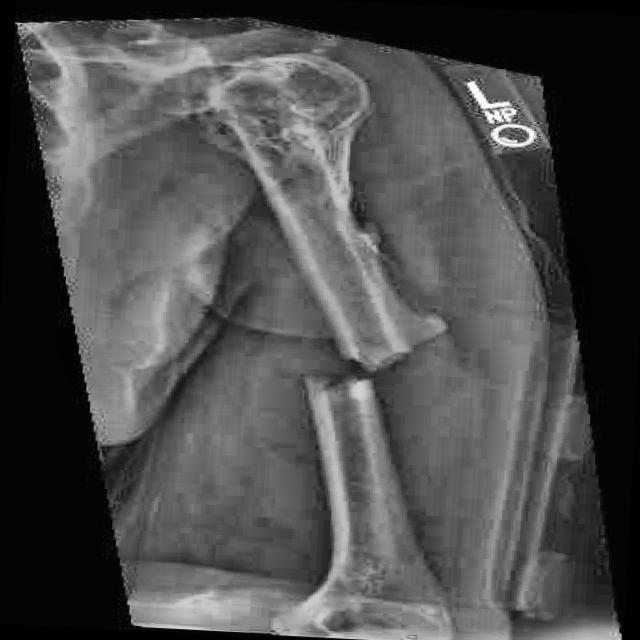humerus: (283, 280, 489, 465)
